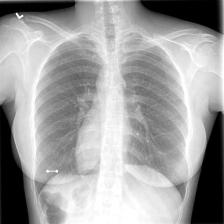normal: (29, 32, 192, 221)
